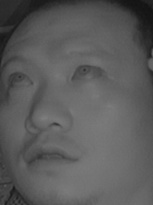eye: (68, 61, 103, 84), (6, 69, 37, 89)
mouth: (21, 141, 83, 174)
